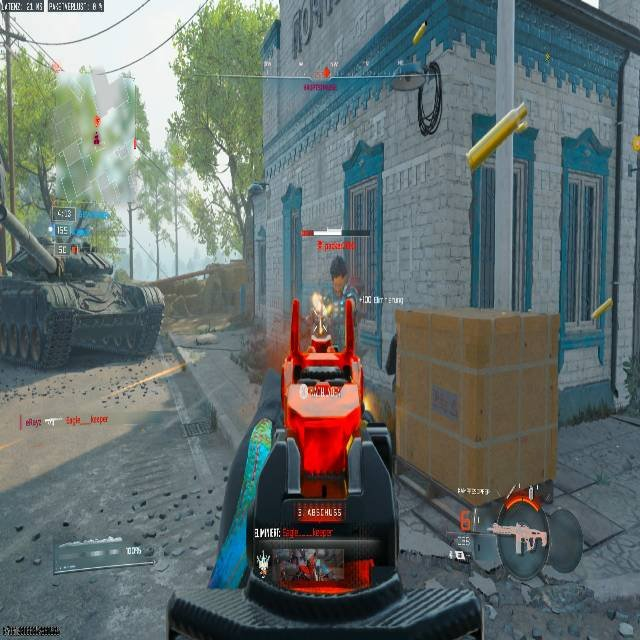head: (330, 257, 348, 289), (327, 252, 344, 278)
player: (317, 256, 365, 355), (310, 291, 329, 339)
